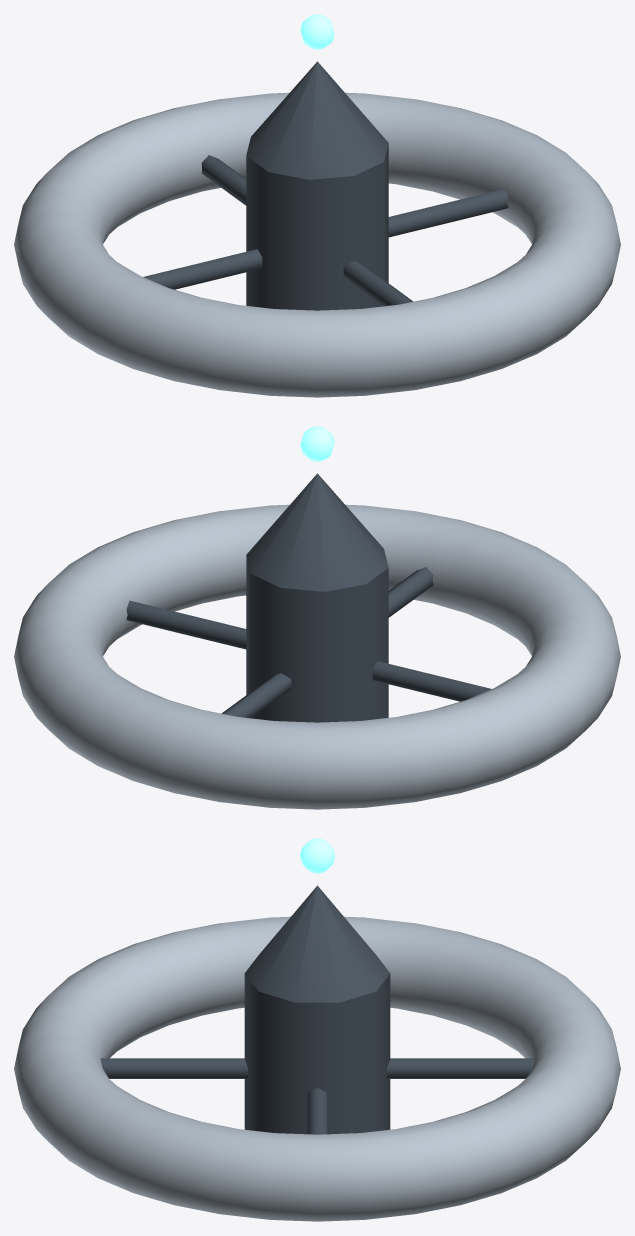
Rendered from earth-station.glb.
3 renders of one model, top to bottom at view 1: azimuth 30°, elevation 25°; view 2: azimuth 150°, elevation 25°; view 3: azimuth 270°, elevation 25°, orthographic.
Visible parts, largest first — view 1: habitat-ring, docking-hub, hub-cap, spoke-1, spoke-3, spoke-4, spoke-2, beacon; view 2: habitat-ring, docking-hub, hub-cap, spoke-1, spoke-3, spoke-2, spoke-4, beacon; view 3: habitat-ring, docking-hub, hub-cap, spoke-2, spoke-4, beacon, spoke-1.
Part boxes in pixels (bbox=[...]): habitat-ring: bbox=[14, 92, 620, 397]; docking-hub: bbox=[246, 144, 388, 310]; hub-cap: bbox=[246, 61, 388, 179]; spoke-1: bbox=[388, 188, 508, 237]; spoke-3: bbox=[143, 249, 262, 289]; spoke-4: bbox=[343, 261, 412, 306]; spoke-2: bbox=[201, 155, 246, 205]; beacon: bbox=[300, 14, 334, 49]; habitat-ring: bbox=[14, 504, 620, 809]; docking-hub: bbox=[246, 556, 388, 722]; hub-cap: bbox=[246, 473, 388, 591]; spoke-1: bbox=[126, 600, 246, 649]; spoke-3: bbox=[372, 661, 491, 701]; spoke-2: bbox=[222, 673, 291, 718]; spoke-4: bbox=[388, 567, 433, 617]; beacon: bbox=[300, 426, 334, 461]; habitat-ring: bbox=[14, 916, 620, 1221]; docking-hub: bbox=[244, 974, 390, 1134]; hub-cap: bbox=[244, 885, 390, 1002]; spoke-2: bbox=[387, 1058, 534, 1078]; spoke-4: bbox=[100, 1058, 247, 1078]; beacon: bbox=[300, 838, 334, 873]; spoke-1: bbox=[307, 1088, 327, 1134].
Size of the model in its own units: 6.38 by 3.76 by 6.38.
